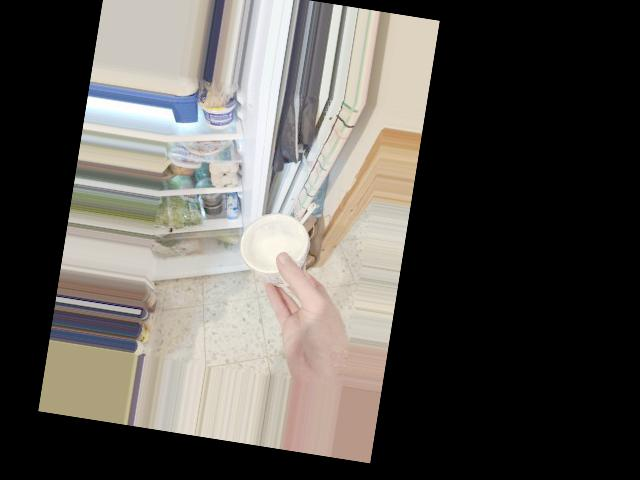cotage: (236, 200, 315, 295)
